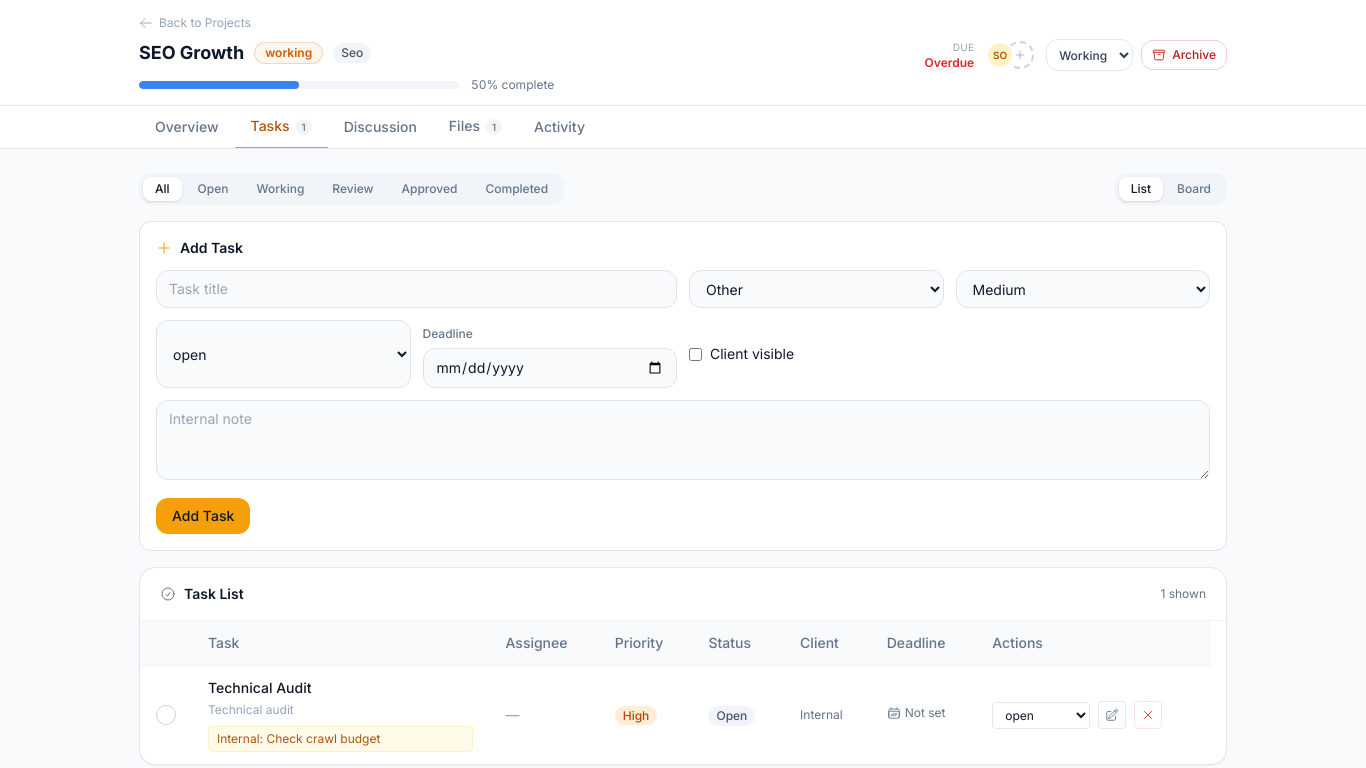
Test: ProjectDetailPage › admin detail shows add task controls
This screenshot has width=1366, height=768.
Check: the heading "Add Task" is shown, box 180,238 -> 243,258
Check: the text "Internal: Check crawl budget" is shown, box 208,726 -> 474,752
Note: Switch to Overview tab — Team Members card visible when members exist
Click the button "Overview" at (187, 128), box 139,106 -> 234,149
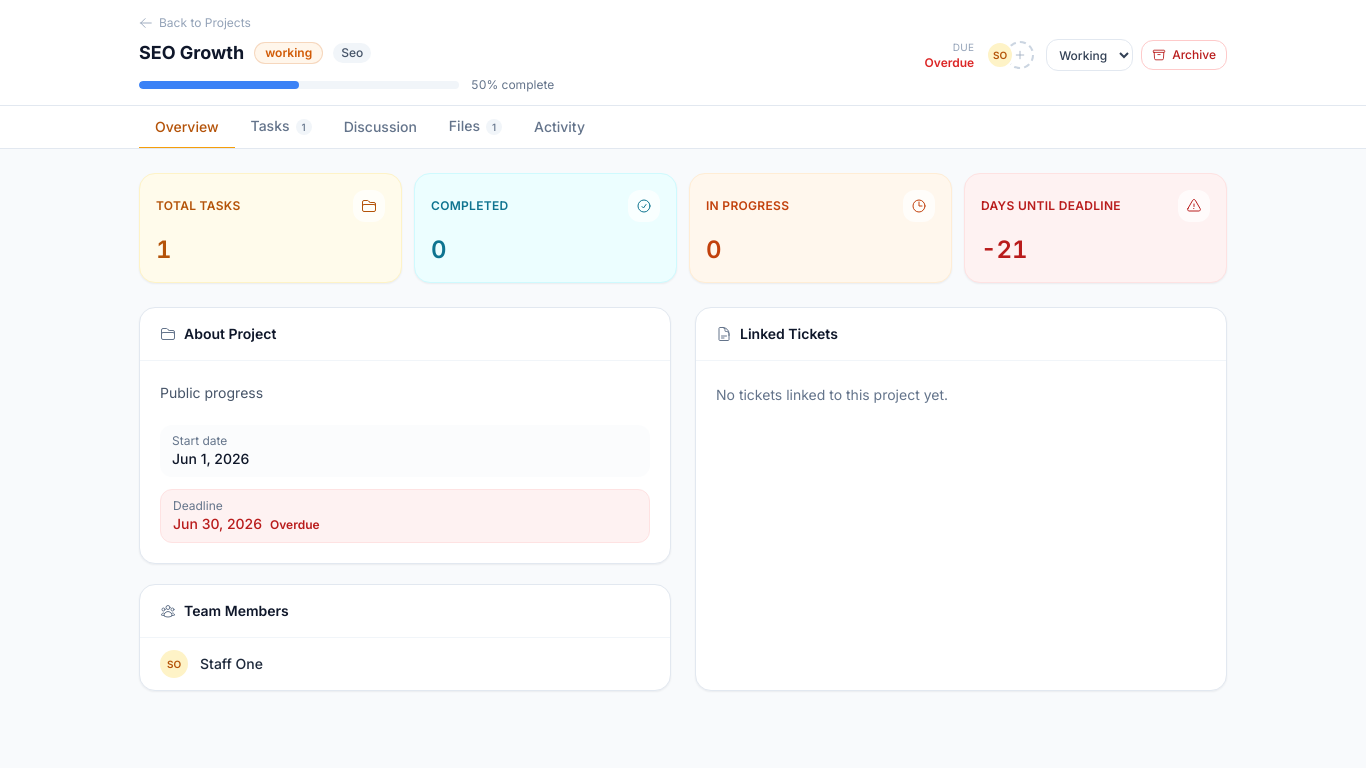
Check: the heading "Team Members" is shown, box 184,601 -> 289,621
Note: Switch to Files tab — admin sees the upload button
Click the button "Files1" at (476, 128), box 433,106 -> 518,149
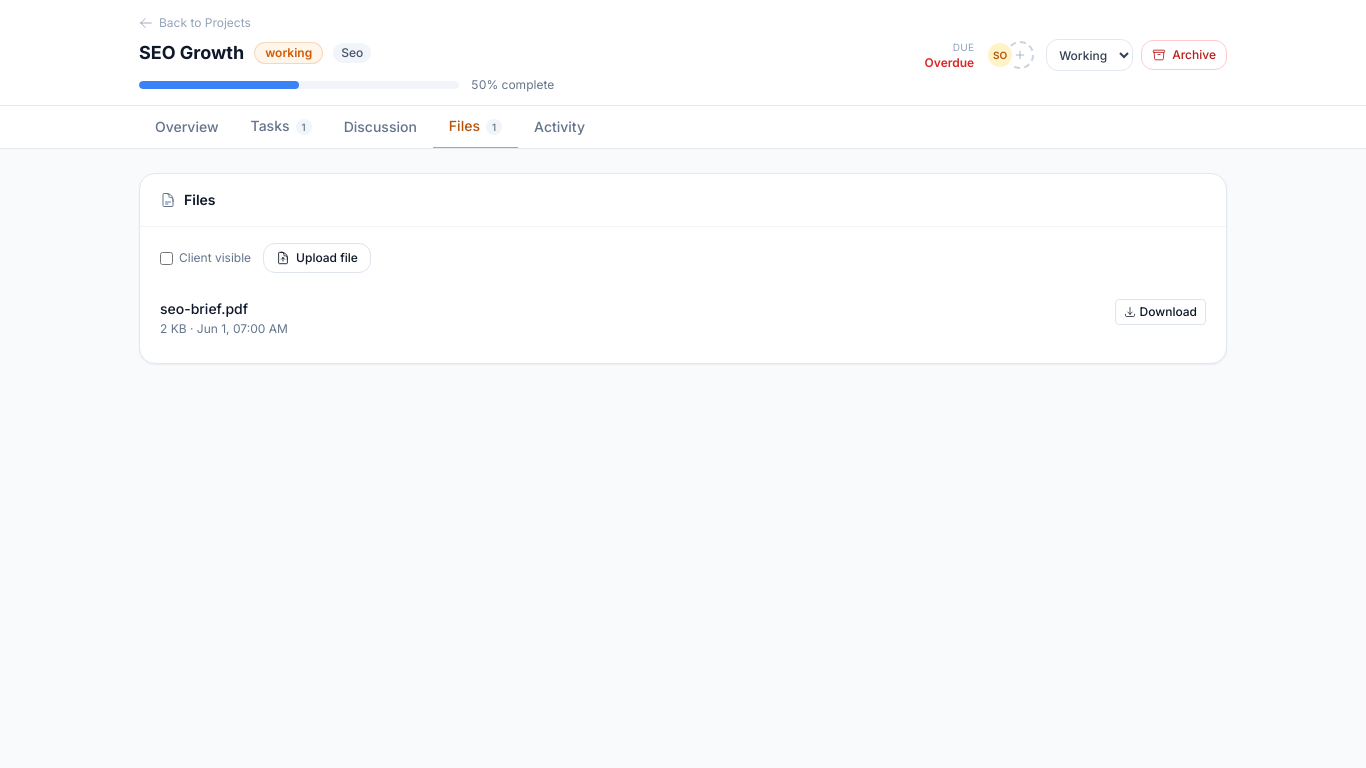
Check: the button "Upload file" is shown, box 263,243 -> 371,273
